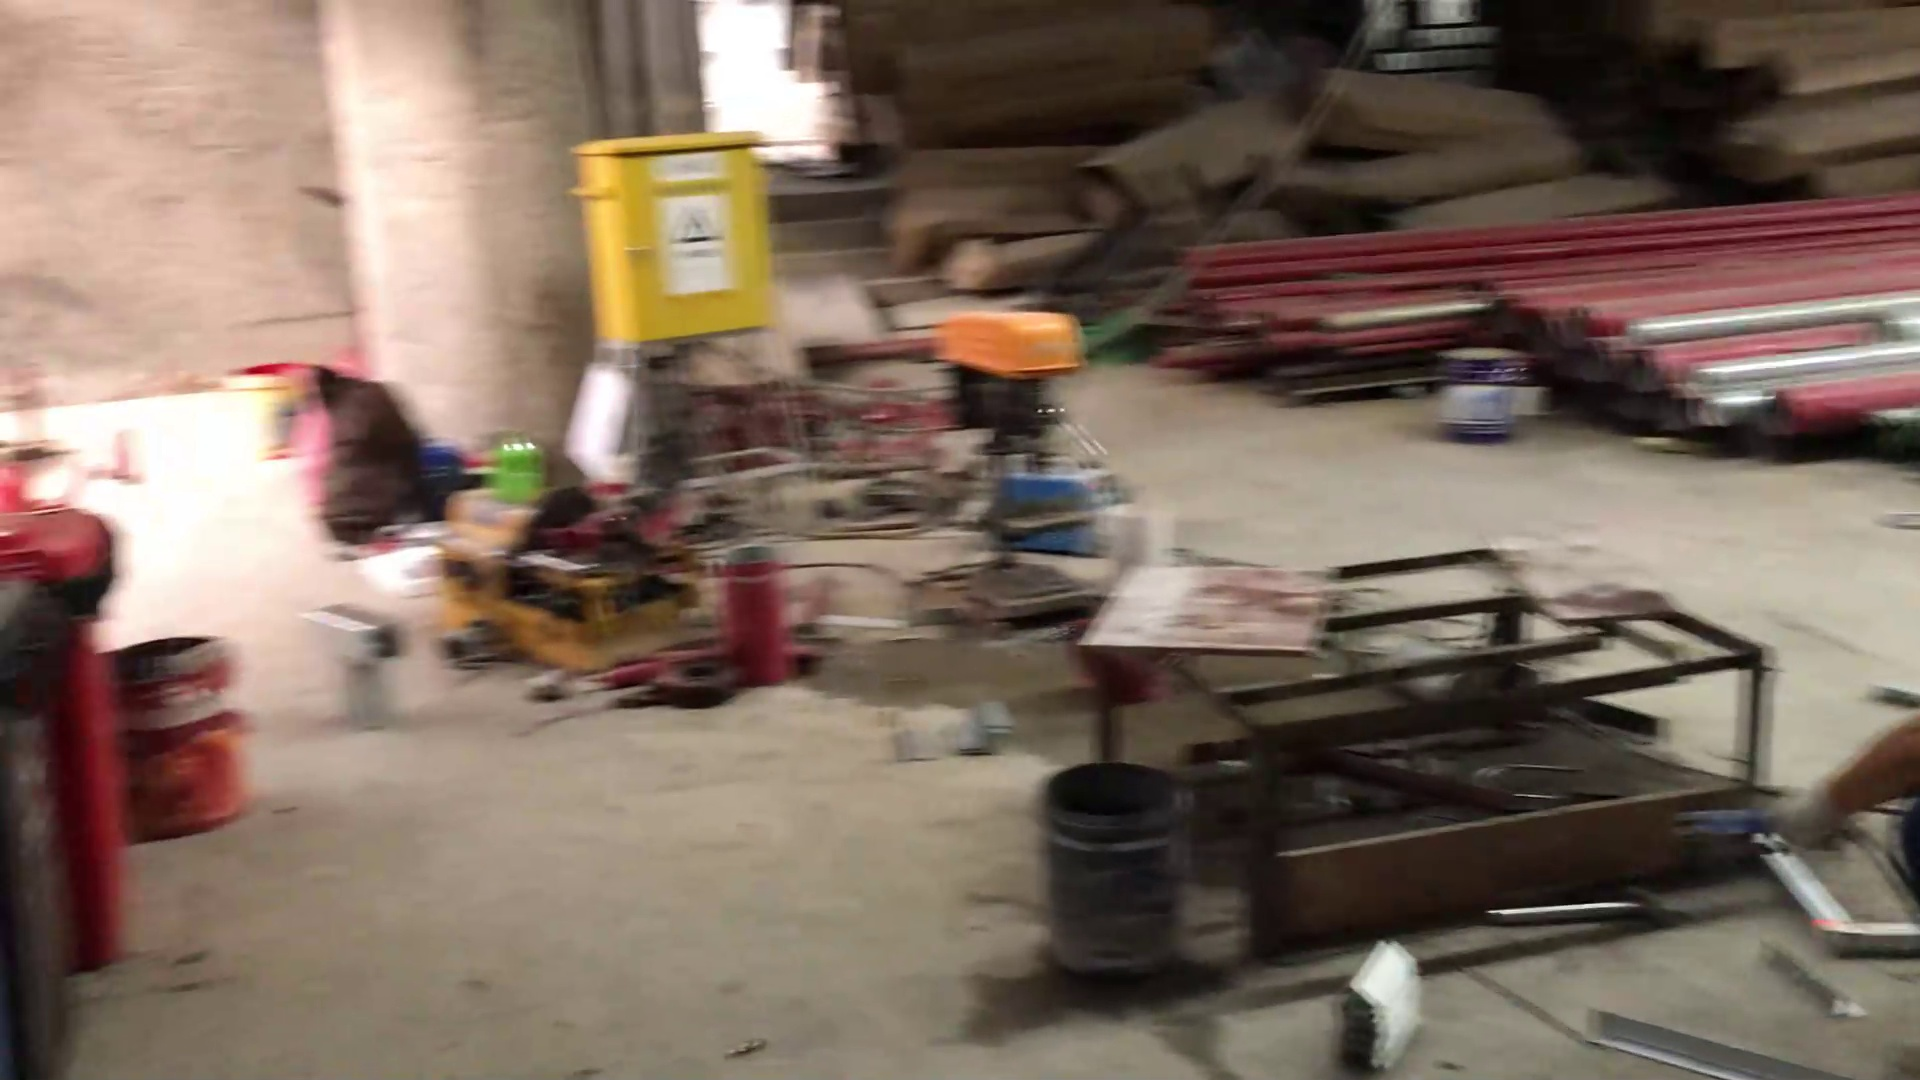ebox: (541, 115, 804, 353)
